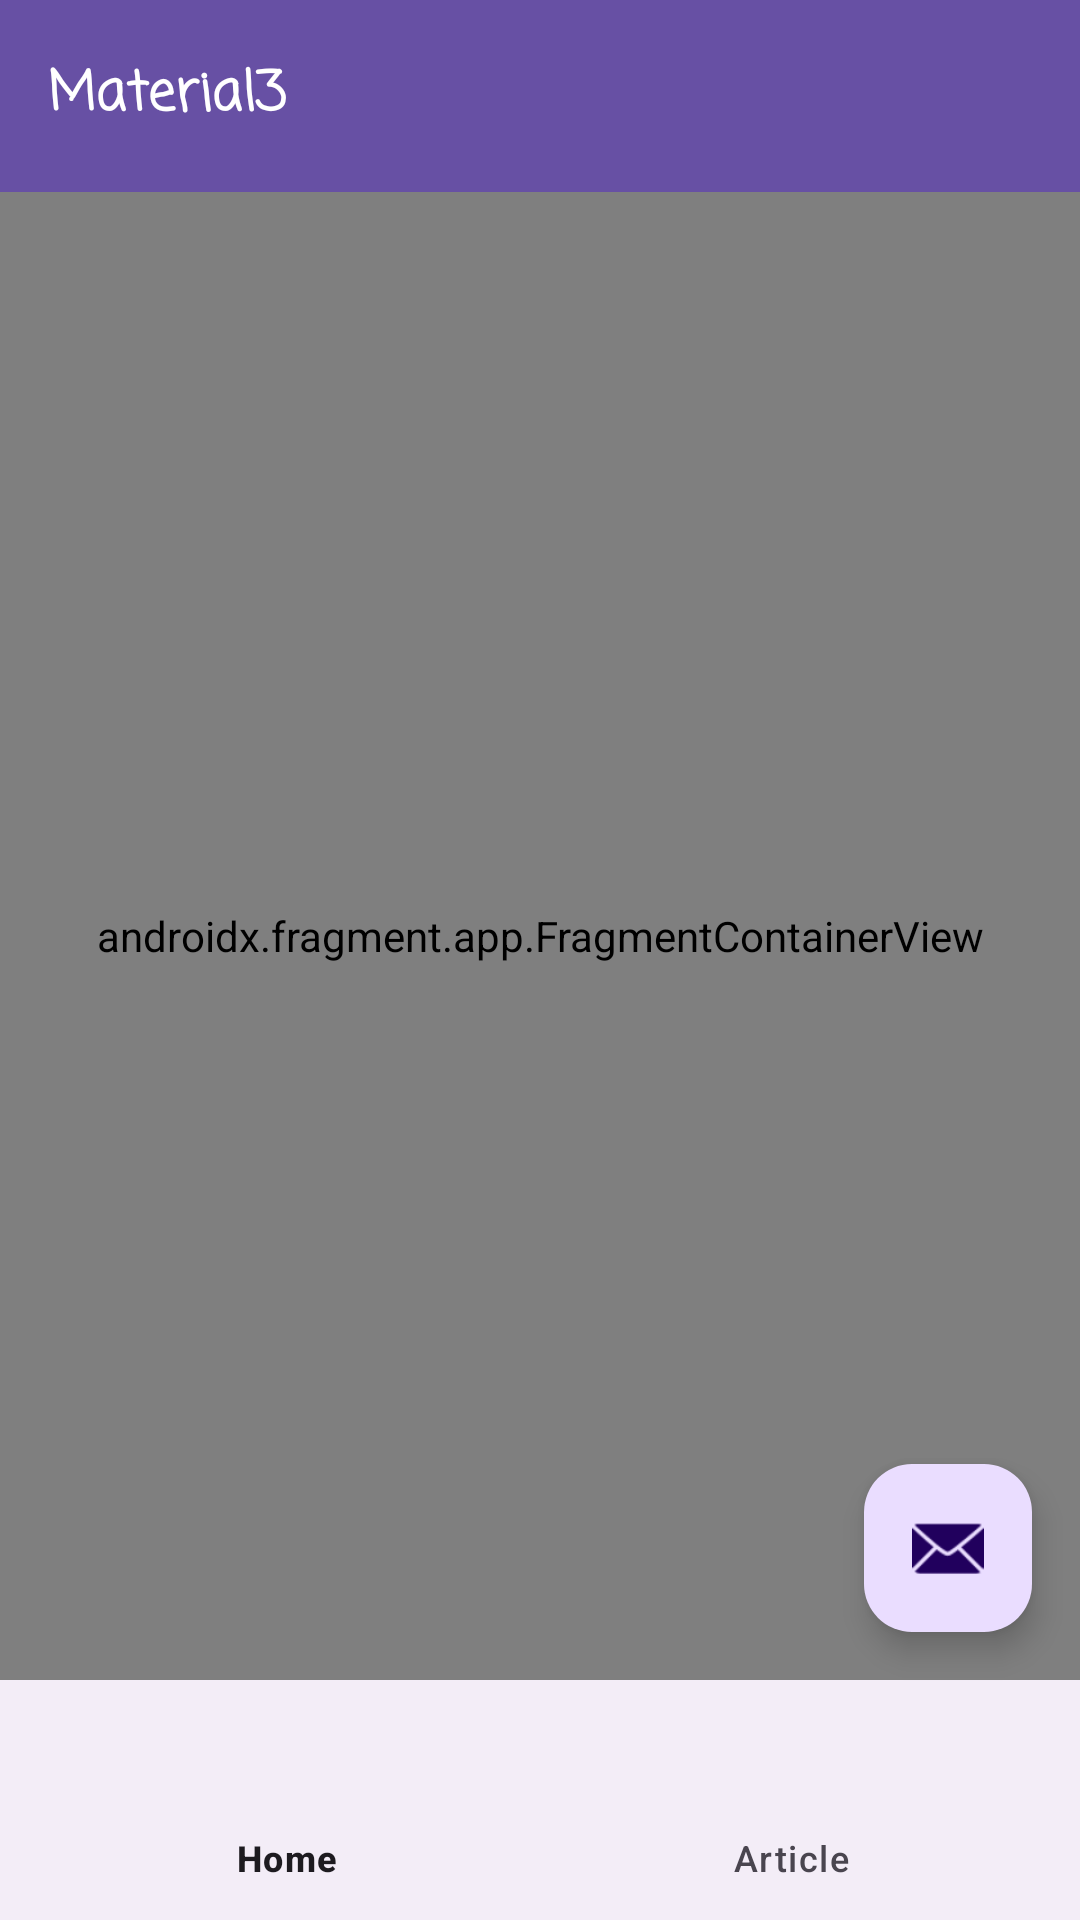

Named icons in this screenshot (1080 x 1920) and their bounding boxes, [left=x1, top=y1, right=x2, bottom=y2]:
email: [left=864, top=1464, right=1032, bottom=1632]
